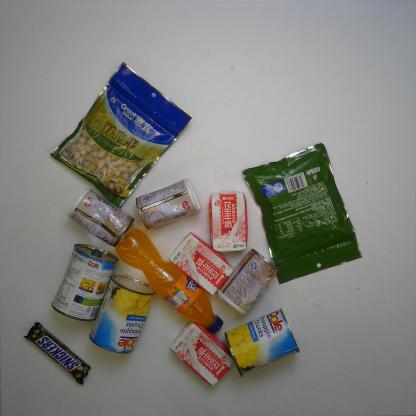Canned Food: (222, 305, 302, 381), (87, 272, 157, 356), (49, 242, 120, 324), (214, 246, 281, 317), (64, 186, 136, 249), (135, 177, 203, 232)
Chocolate: (19, 320, 92, 389)
Dried Fruit: (48, 61, 194, 211), (240, 140, 364, 286)
Drink: (112, 226, 225, 336)
Milk: (167, 320, 236, 389), (167, 231, 235, 297), (206, 189, 249, 254)
